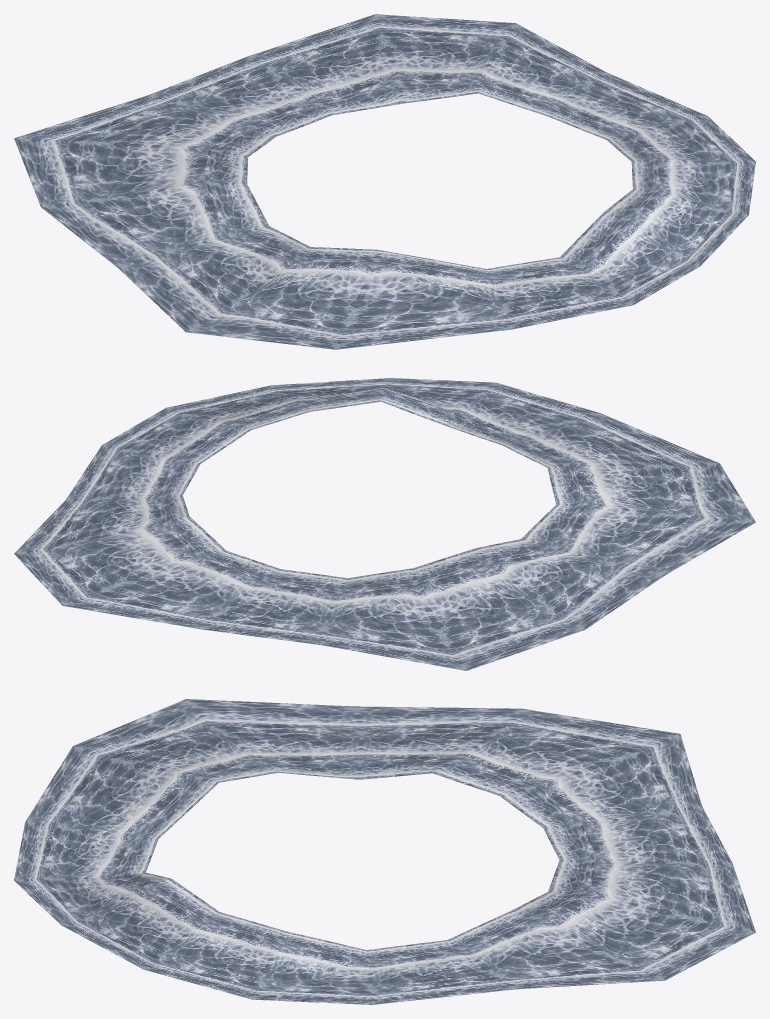
File: shuai06.obj
3 views of the same model, one above another, from view 1: azimuth 30°, elevation 25°; view 2: azimuth 150°, elevation 25°; view 3: azimuth 270°, elevation 25° (orthographic). The views are drawn at different scales.
Parts seen in each view (by area): view 1: shuai06; view 2: shuai06; view 3: shuai06.
Part boxes in pixels (left/top/right/bottom): shuai06: left=14, top=14, right=755, bottom=349; shuai06: left=14, top=378, right=755, bottom=670; shuai06: left=14, top=699, right=755, bottom=1004.
Size of the model in its own units: 882 by 33.76 by 905.
